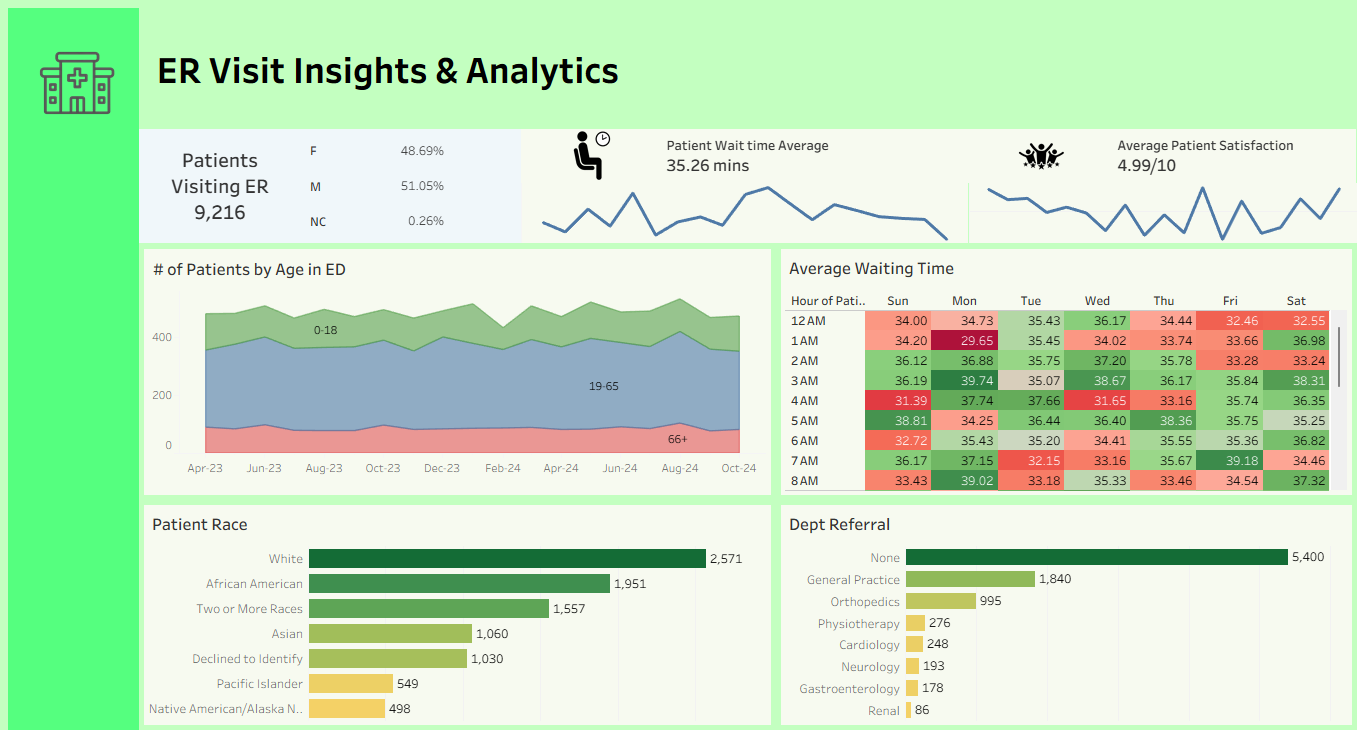

What the dashboard file says about the page in this screenshot:
{"tool":"tableau","page":{"name":"Dashboard 1","canvas":[1000,1000],"units":"permille","ordinal":0},"visuals":[{"type":"image","param":"Image/output-onlinepngtools (1).png","box":[6.9,13.7,95.6,189.4]},{"type":"text","box":[102.5,13.7,889.6,163.2]},{"type":"worksheet","title":"# of Patients","mark":"Automatic","box":[102.5,177,139.4,154.2]},{"type":"worksheet","title":"Gender","mark":"Automatic","rows":["Patient Gender"],"box":[241.9,177,131.6,154.2]},{"type":"image","param":"Image/64-642968_wait-clipart-hd-png-download (1).png","box":[382,177,102.9,72.8]},{"type":"worksheet","title":"AVG Wait time","mark":"Automatic","box":[484.8,177,223.9,72.8]},{"type":"image","param":"Image/customer-experience-icon-client-satisfaction-symbol-customer-relationship-","box":[708.8,177,105.5,72.9]},{"type":"worksheet","title":"AVG Satisfaction","mark":"Automatic","box":[814.3,177,177.8,72.9]},{"type":"text","box":[6.9,203.1,95.6,727.7]},{"type":"worksheet","title":"Waittime Average","mark":"Automatic","rows":["Patient Waittime"],"cols":["Patient Admission Date"],"box":[382,249.8,326.8,81.3]},{"type":"worksheet","title":"Patient Satisfaction","mark":"Automatic","rows":["Patient Satisfaction Score"],"cols":["Patient Admission Date"],"box":[708.8,249.8,284.3,81.3]},{"type":"worksheet","title":"# of Patients by Age ED","mark":"Area","rows":["Patient Id"],"cols":["Patient Admission Date"],"box":[106.9,339.7,456.4,327.9]},{"type":"worksheet","title":"HeatMap","mark":"Square","rows":["Patient Admission Date"],"cols":["Patient Admission Date"],"box":[571.9,339.7,415.9,327.9]},{"type":"worksheet","title":"Patient Race","mark":"Automatic","rows":["Patient Race"],"cols":["Patient Id"],"box":[106.9,684.7,456.4,293.1]},{"type":"worksheet","title":"Dept Referral","mark":"Automatic","rows":["Department Referral"],"cols":["Patient Id"],"box":[571.9,684.7,415.9,293.1]}]}

Visuals, with their boxes on the dashboard's canvas, which has no fixed pixel size, in thousandths of its width and height (x1, y1, x2, y2). These are canvas units, not pixel positions in the 1357x730 screenshot, which may show the page scaled, cropped or inside an application window:
image: 7, 14, 102, 203
text: 102, 14, 992, 177
"# of Patients" worksheet: 102, 177, 242, 331
"Gender" worksheet: 242, 177, 374, 331
image: 382, 177, 485, 250
"AVG Wait time" worksheet: 485, 177, 709, 250
image: 709, 177, 814, 250
"AVG Satisfaction" worksheet: 814, 177, 992, 250
text: 7, 203, 102, 931
"Waittime Average" worksheet: 382, 250, 709, 331
"Patient Satisfaction" worksheet: 709, 250, 993, 331
"# of Patients by Age ED" worksheet (Area marks): 107, 340, 563, 668
"HeatMap" worksheet (Square marks): 572, 340, 988, 668
"Patient Race" worksheet: 107, 685, 563, 978
"Dept Referral" worksheet: 572, 685, 988, 978
